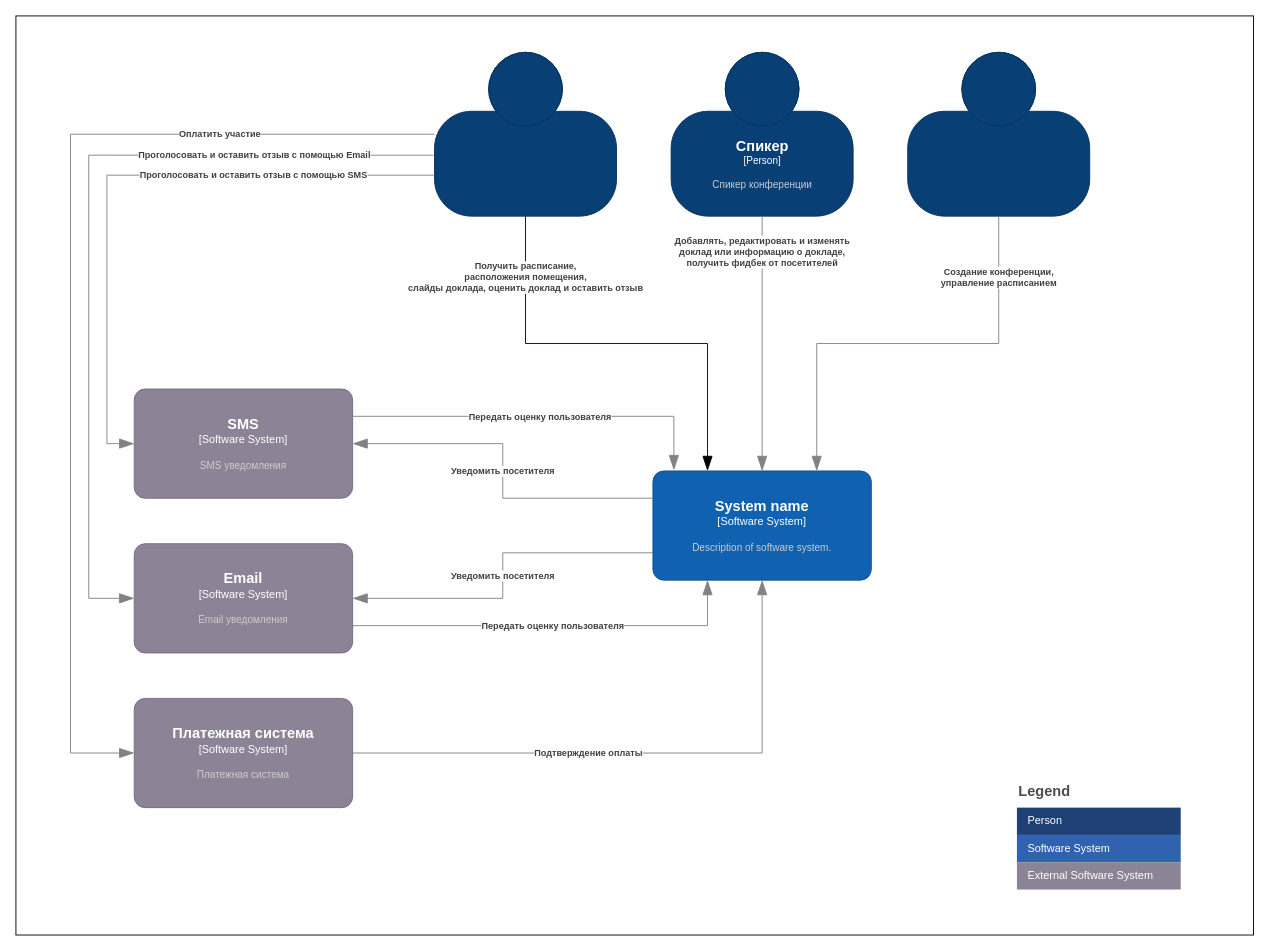
The diagram is 1269 pixels wide and 951 high, and some of its shapes have lost their labels. Here are the shapes that lost their labels. From the top down, the centre of each, then its label:
At (525,133): "Посетитель [Person] Посетитель конференции".
At (998,133): "Сотрудник [Person] Сотрудник компании организатора конференции".
